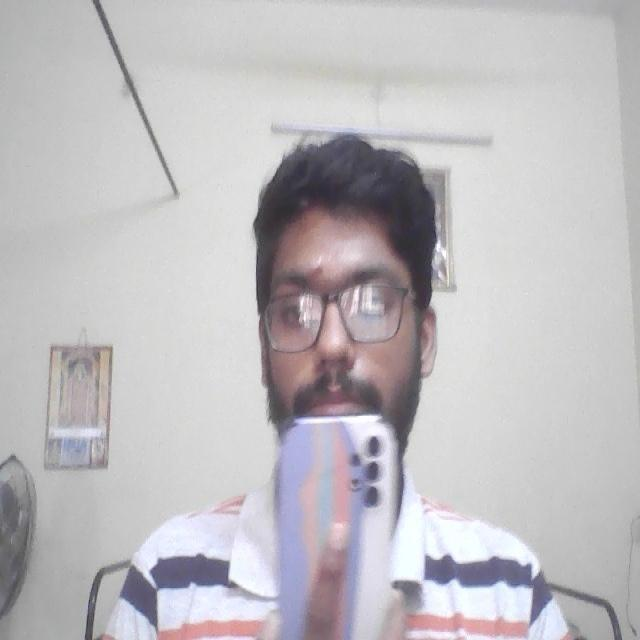Mobile: (267, 409, 401, 640)
